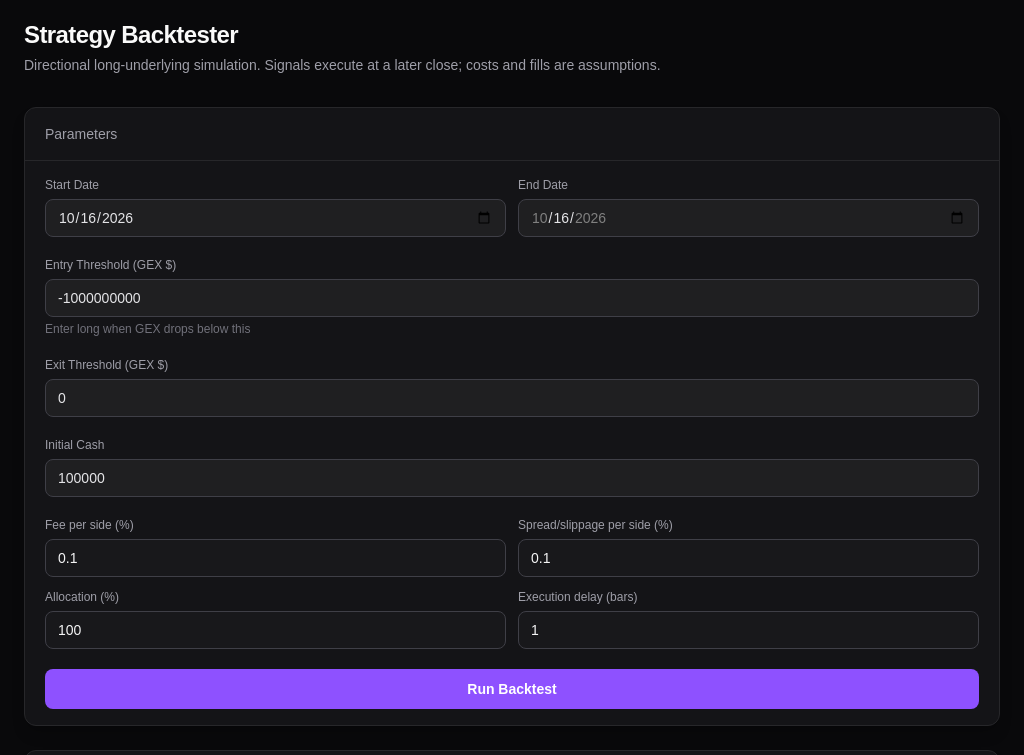
Test: BacktestPage submitted query cache › rejects a direct submit with invalid Initial Cash before running corrected parameters
Replace the text in the number field labelled "Initial Cash" with "0" at (512, 478), box [45,459,979,497]
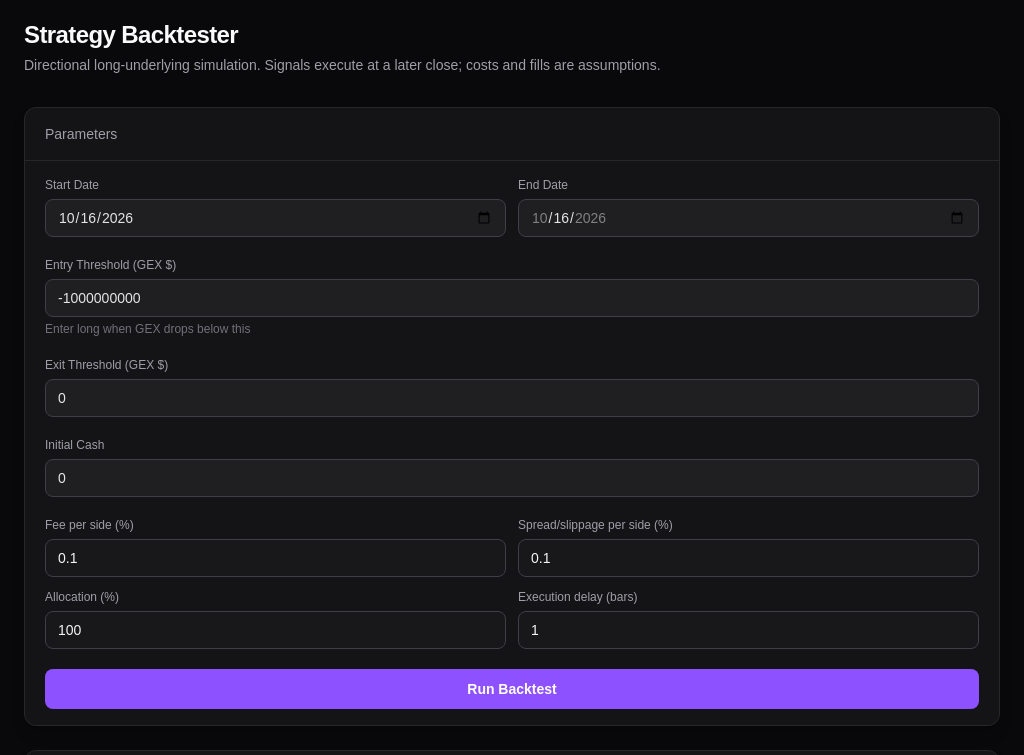
Submit the form named "Initial Cash"
Replace the text in the number field labelled "Initial Cash" with "100000" at (512, 478), box [45,459,979,497]
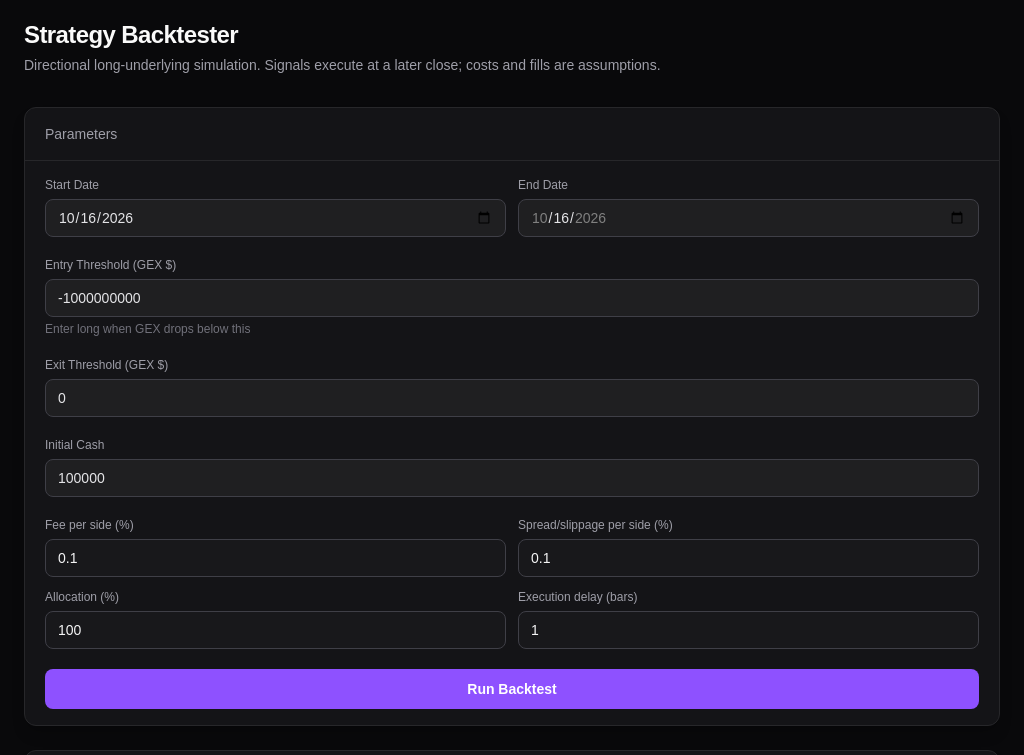
Submit the form named "Initial Cash"
(page scrolled)
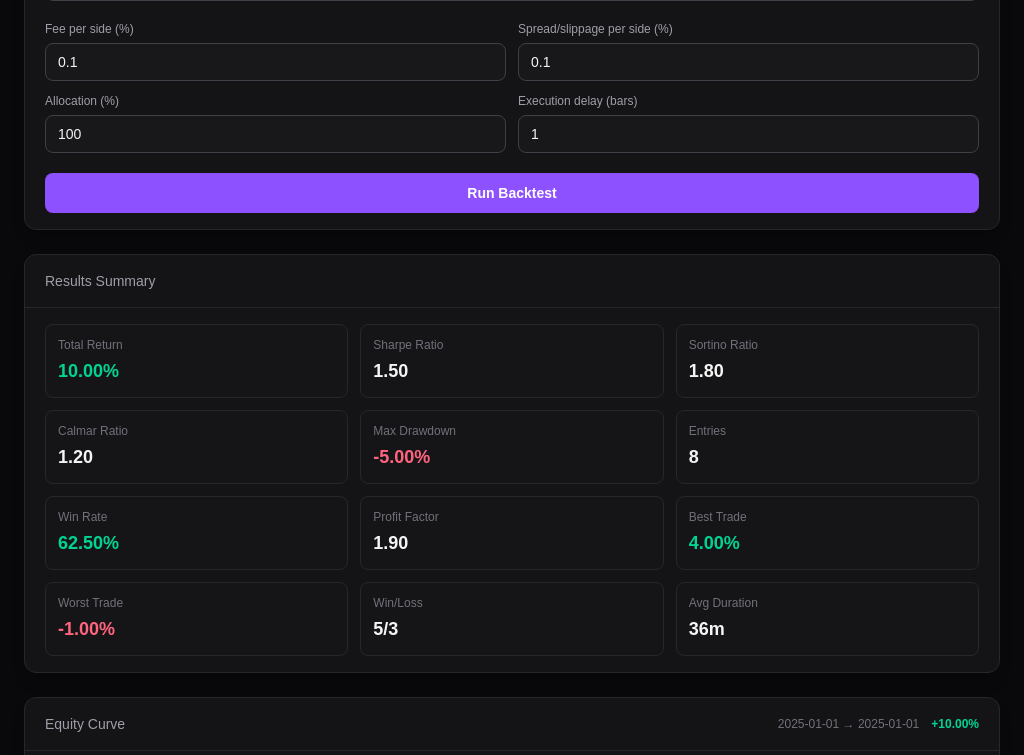
expect the text "10.00%" is shown: met, box [58,361,119,381]
